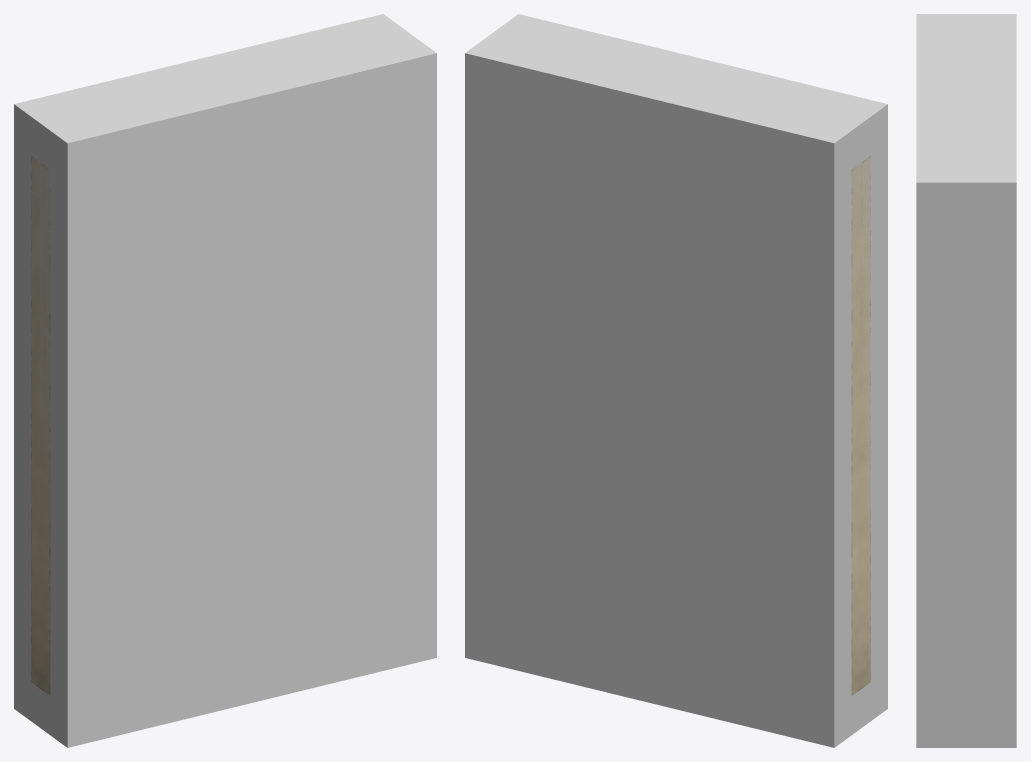
Rendered from house_wall_window_offset.glb.
3 renders of one model, left to right at view 1: azimuth 30°, elevation 25°; view 2: azimuth 150°, elevation 25°; view 3: azimuth 270°, elevation 25°, orthographic. The views are drawn at different scales.
Visible parts, largest first — view 1: COL_house_wall_window_offset_static_00, house_wall_window_offset_static; view 2: COL_house_wall_window_offset_static_00, house_wall_window_offset_static; view 3: COL_house_wall_window_offset_static_00.
Boxes of the visible parts, x1,y1,x2,y2 form: COL_house_wall_window_offset_static_00: (14, 14, 436, 747); house_wall_window_offset_static: (31, 156, 50, 695); COL_house_wall_window_offset_static_00: (465, 14, 887, 747); house_wall_window_offset_static: (851, 156, 870, 695); COL_house_wall_window_offset_static_00: (916, 14, 1016, 747).
Size of the model in its own units: 1.78 by 2.78 by 0.4462.
4 materials, 4 textured.
